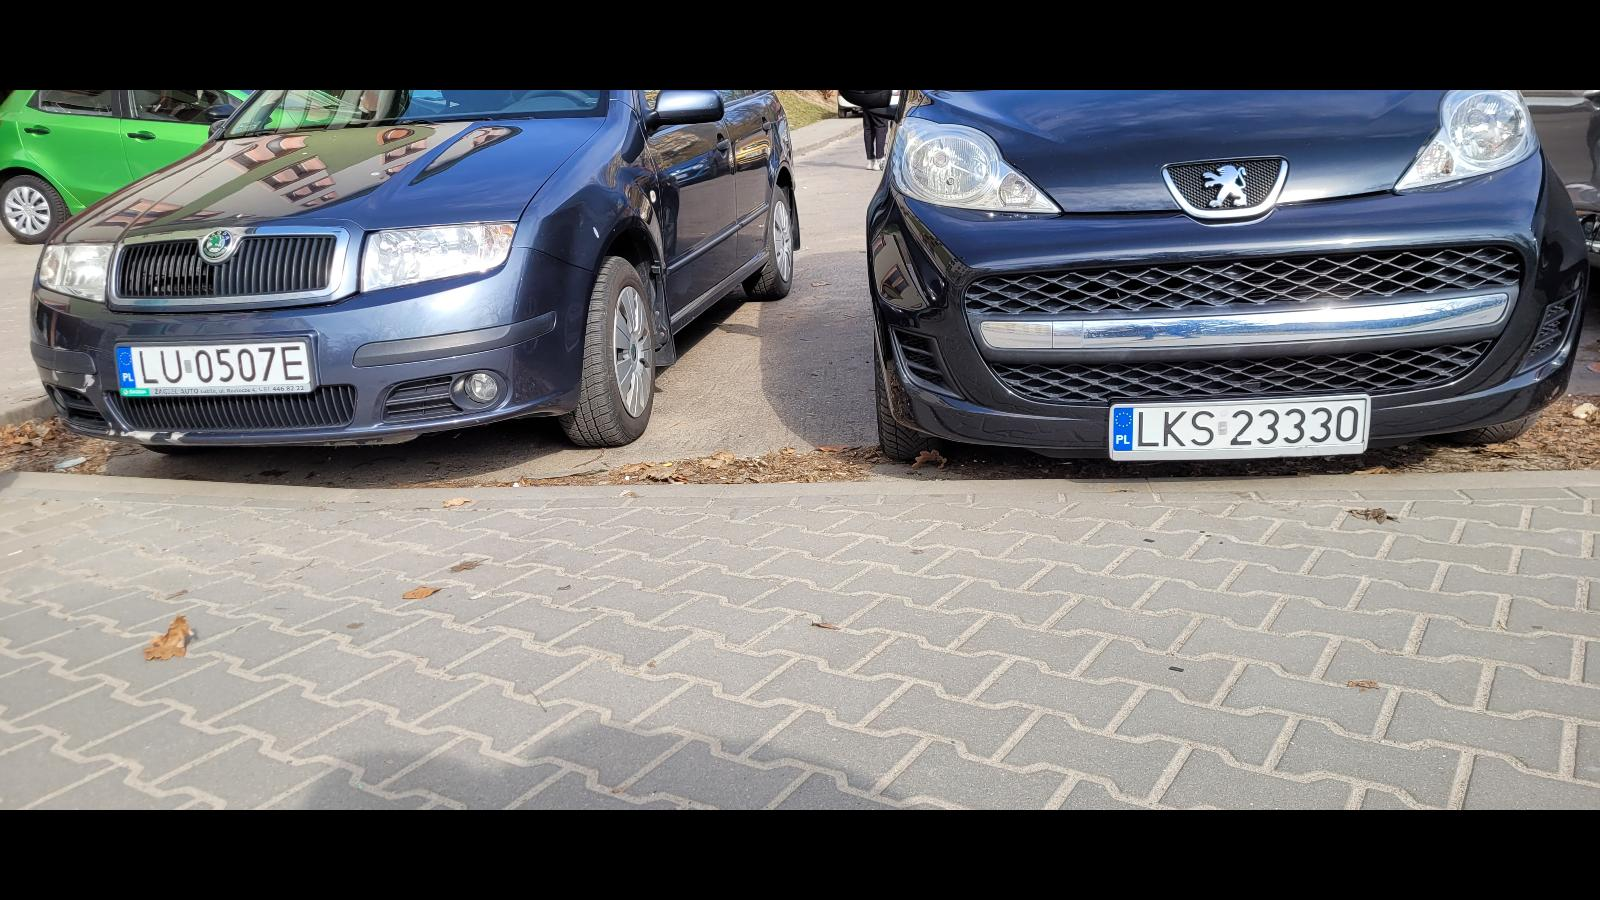plates: (1109, 394, 1371, 462), (114, 338, 316, 397)
